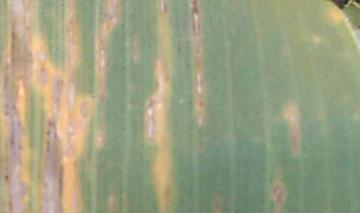tarspot: (56, 164, 64, 198), (45, 141, 52, 152), (47, 120, 55, 128), (52, 131, 60, 139), (8, 136, 15, 145), (3, 173, 9, 181), (18, 143, 24, 150), (46, 130, 51, 135)
